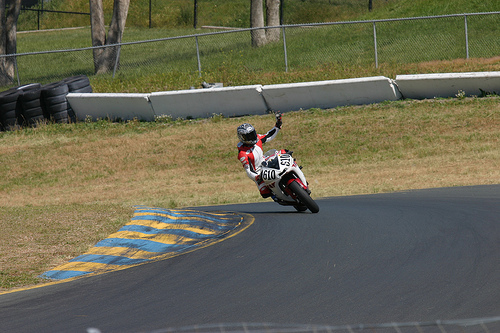helmet: (234, 122, 260, 145)
